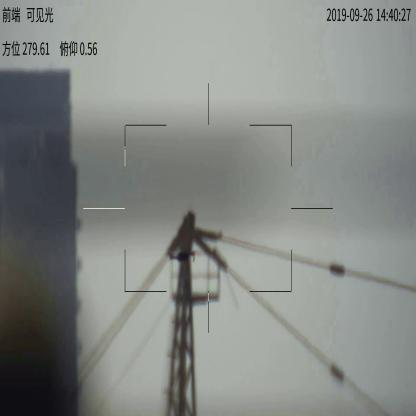uav: (172, 248, 202, 264)
